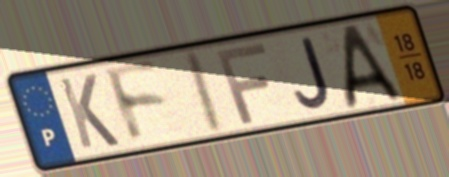A: (343, 20, 406, 113)
F: (100, 59, 172, 148), (213, 40, 272, 128)
I: (184, 46, 229, 139)
J: (292, 34, 334, 112)
K: (55, 71, 123, 152)
